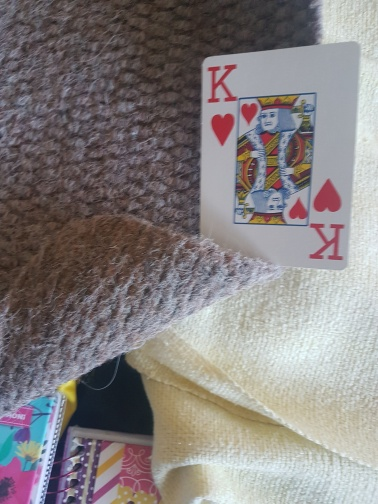king: (202, 43, 362, 269)
